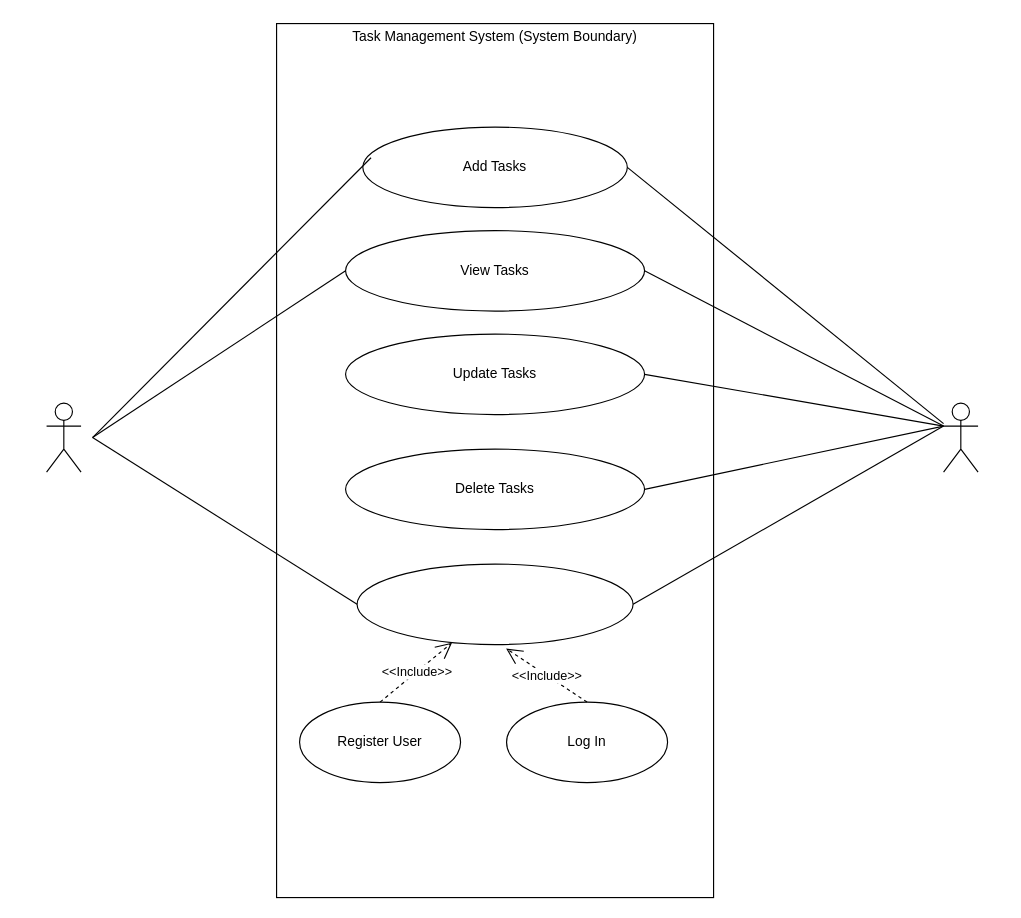
This 1021x918 diagram has some shape labels left out. Each missing label, with the box of its shape:
Administrator (Superuser): (942, 402, 978, 472)
Authenticate Users: (356, 563, 633, 645)
Standard User: (45, 402, 81, 472)
